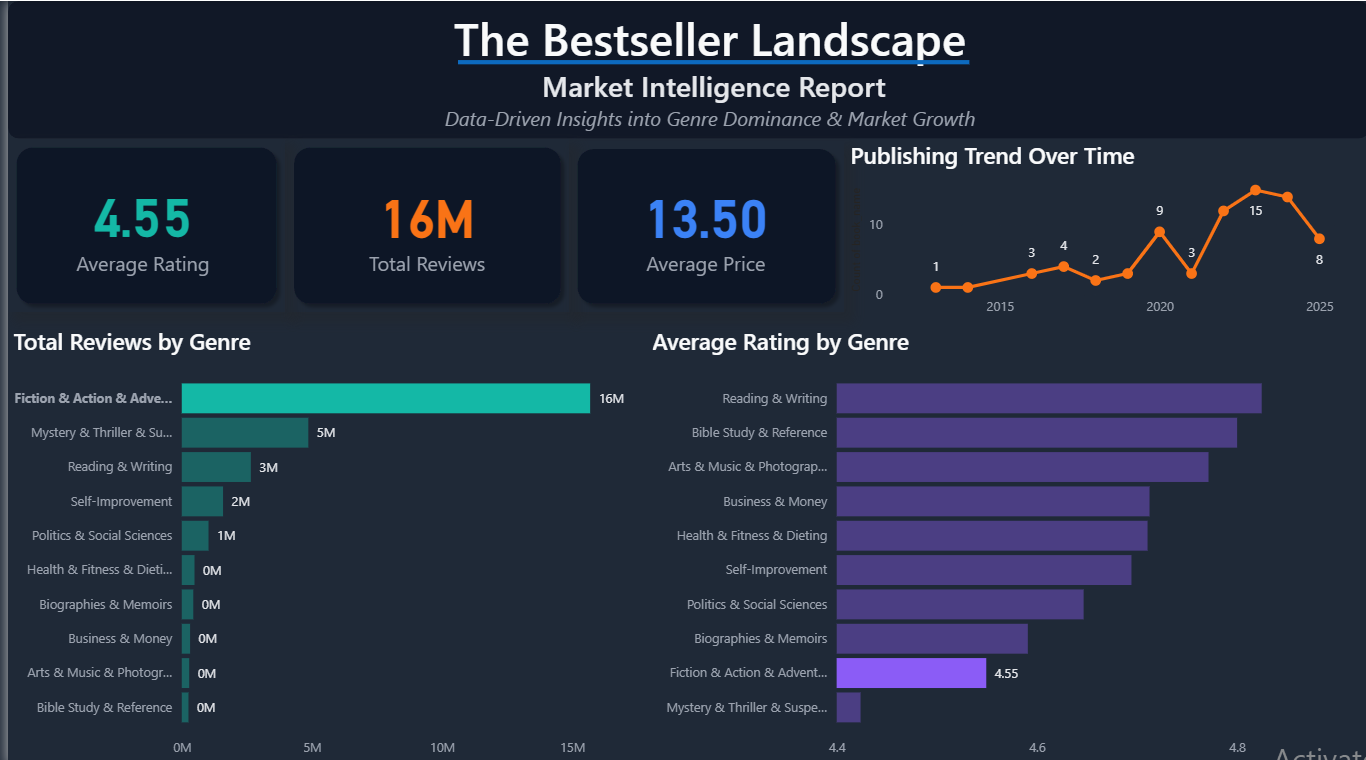

What the dashboard file says about the page in this screenshot:
{"tool":"powerbi","page":{"name":"Executive Insights","canvas":[1280,720],"ordinal":0},"visuals":[{"type":"shape","box":[0,0,1279.7,129.4],"z":0},{"type":"textbox","box":[0,0,1279.7,129.4],"z":1000},{"type":"shape","box":[0,129.4,260.4,163],"z":2000},{"type":"shape","box":[260.4,129.4,266.8,163],"z":3000},{"type":"shape","box":[527.2,131,258.8,161.4],"z":4000},{"type":"card","title":"Average","fields":{"Values":["Avg(book_master_cleaned.rating)"]},"box":[17.6,143.8,218.9,132.6],"z":5000},{"type":"card","title":"Average","fields":{"Values":["Sum(book_master_cleaned.reviews_count)"]},"box":[282.8,143.8,220.5,134.2],"z":6000},{"type":"card","title":"Average","fields":{"Values":["Avg(book_master_cleaned.price)"]},"box":[548,143.8,214.1,134.2],"z":7000},{"type":"clusteredBarChart","title":"Total Reviews by Genre","fields":{"Category":["book_master_cleaned.genre"],"Y":["Sum(book_master_cleaned.reviews_count)"]},"box":[0,305.2,600.7,415.4],"z":8000},{"type":"clusteredBarChart","title":"Average Rating by Genre","fields":{"Category":["book_master_cleaned.genre"],"Y":["Avg(book_master_cleaned.rating)"]},"box":[600.7,305.2,661.4,415.4],"z":9000},{"type":"lineChart","title":"Publishing Trend Over Time","fields":{"Category":["book_master_cleaned.Publish Year"],"Y":["CountNonNull(book_master_cleaned.book_name)"]},"box":[786.1,129.4,493.7,175.7],"z":10000},{"type":"shape","box":[423.4,0,480.9,115],"z":11000}]}

Visuals, with their boxes in screenshot pixels (x1, y1, x2, y2), scaled from the page's 1280x720 canvas onto the 1366x760 screenshot:
shape: <region>0, 0, 1365, 137</region>
textbox: <region>0, 0, 1365, 137</region>
shape: <region>0, 137, 278, 309</region>
shape: <region>278, 137, 563, 309</region>
shape: <region>563, 138, 839, 309</region>
"Average" card: <region>19, 152, 252, 292</region>
"Average" card: <region>302, 152, 537, 293</region>
"Average" card: <region>585, 152, 813, 293</region>
"Total Reviews by Genre" clusteredBarChart: <region>0, 322, 641, 759</region>
"Average Rating by Genre" clusteredBarChart: <region>641, 322, 1347, 759</region>
"Publishing Trend Over Time" lineChart: <region>839, 137, 1365, 322</region>
shape: <region>452, 0, 965, 121</region>
